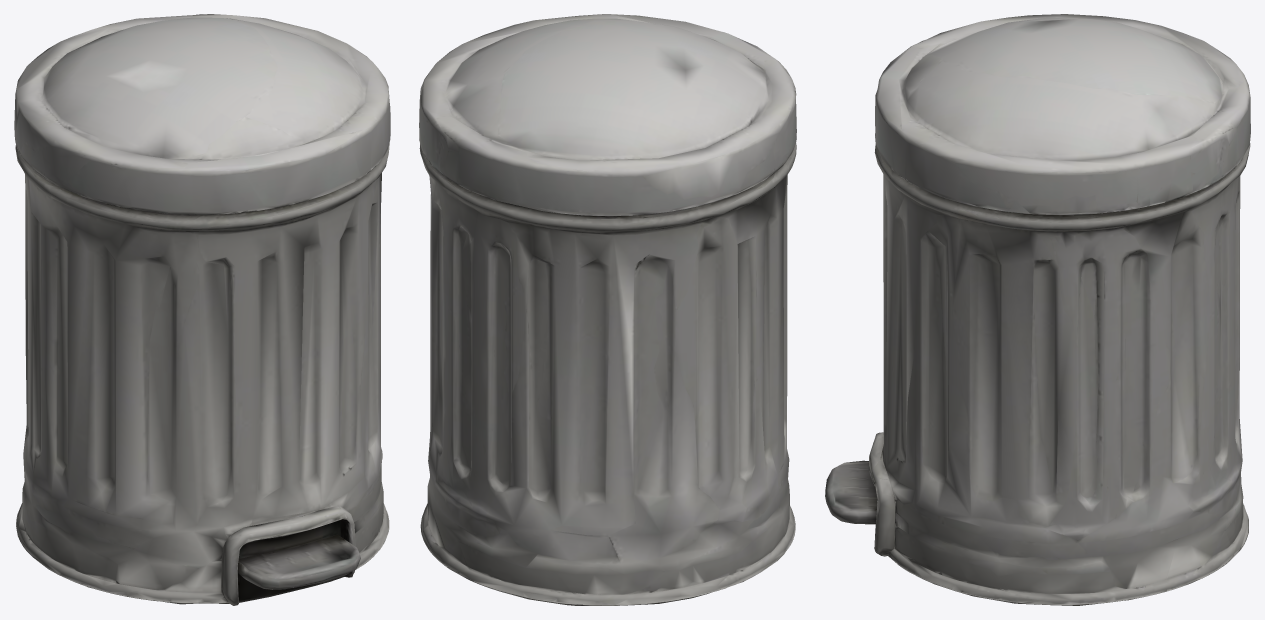
Rendered from trash-lite.glb.
3 renders of one model, left to right at view 1: azimuth 30°, elevation 25°; view 2: azimuth 150°, elevation 25°; view 3: azimuth 270°, elevation 25°, orthographic.
Parts seen in each view (by area): view 1: node_0; view 2: node_0; view 3: node_0.
Boxes of the visible parts, box(x1,y1,x2,y2) form: node_0: box(14, 14, 390, 605); node_0: box(419, 14, 796, 605); node_0: box(825, 14, 1250, 605).
Bounding box in the file's own units: 0.6687 × 0.9481 × 0.7568.
Materials: 1 (1 with a texture image).
